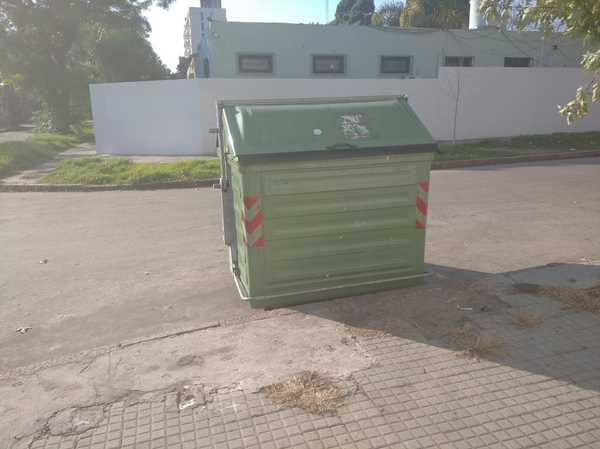Trash: (217, 98, 436, 304)
